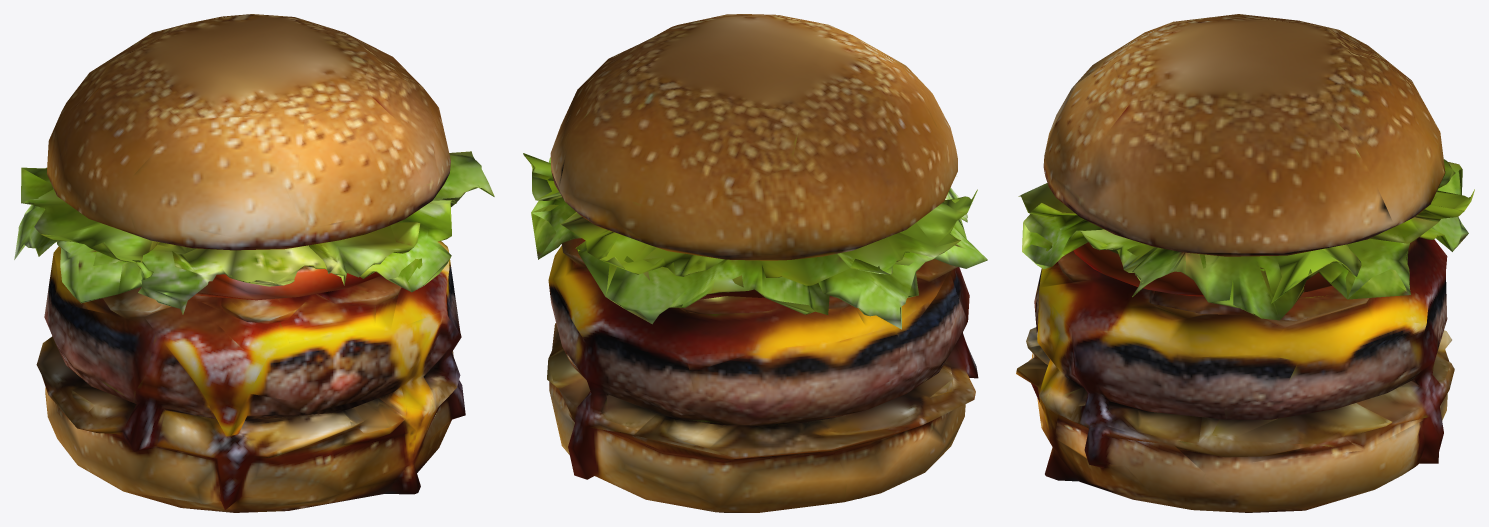
File: hamburger3.glb
3 views of the same model, side by side, from view 1: azimuth 30°, elevation 25°; view 2: azimuth 150°, elevation 25°; view 3: azimuth 270°, elevation 25° (orthographic).
Parts seen in each view (by area): view 1: node_0; view 2: node_0; view 3: node_0.
Part boxes in pixels (x1,y1,x2,y2): node_0: (14,14,494,512); node_0: (523,14,987,512); node_0: (1016,14,1474,512).
Bounding box in the file's own units: 0.934 × 0.8462 × 0.8931.
1 material, 1 textured.
